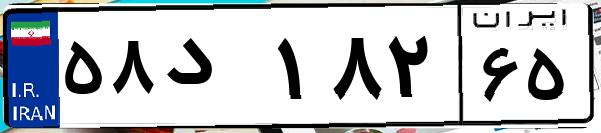1: (270, 28, 330, 110)
2: (385, 28, 445, 110)
5: (57, 26, 110, 100), (525, 38, 570, 115)
6: (475, 38, 525, 113)
8: (330, 28, 385, 110), (110, 28, 158, 98)
د: (158, 20, 270, 120)
